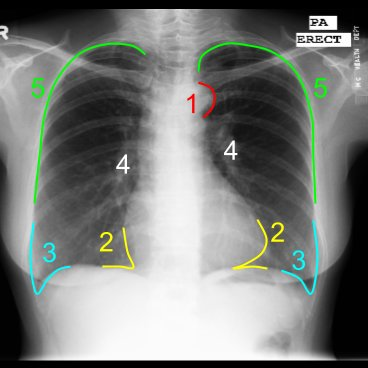telestration: (196, 39, 317, 204), (33, 40, 149, 204), (27, 217, 70, 295), (280, 220, 321, 297), (229, 218, 271, 269), (97, 226, 137, 272), (195, 78, 216, 119), (97, 229, 114, 255), (313, 74, 328, 102), (116, 150, 132, 175), (223, 135, 238, 161), (269, 221, 284, 245), (30, 75, 44, 98), (292, 248, 304, 271), (41, 243, 56, 260), (188, 91, 196, 115)
